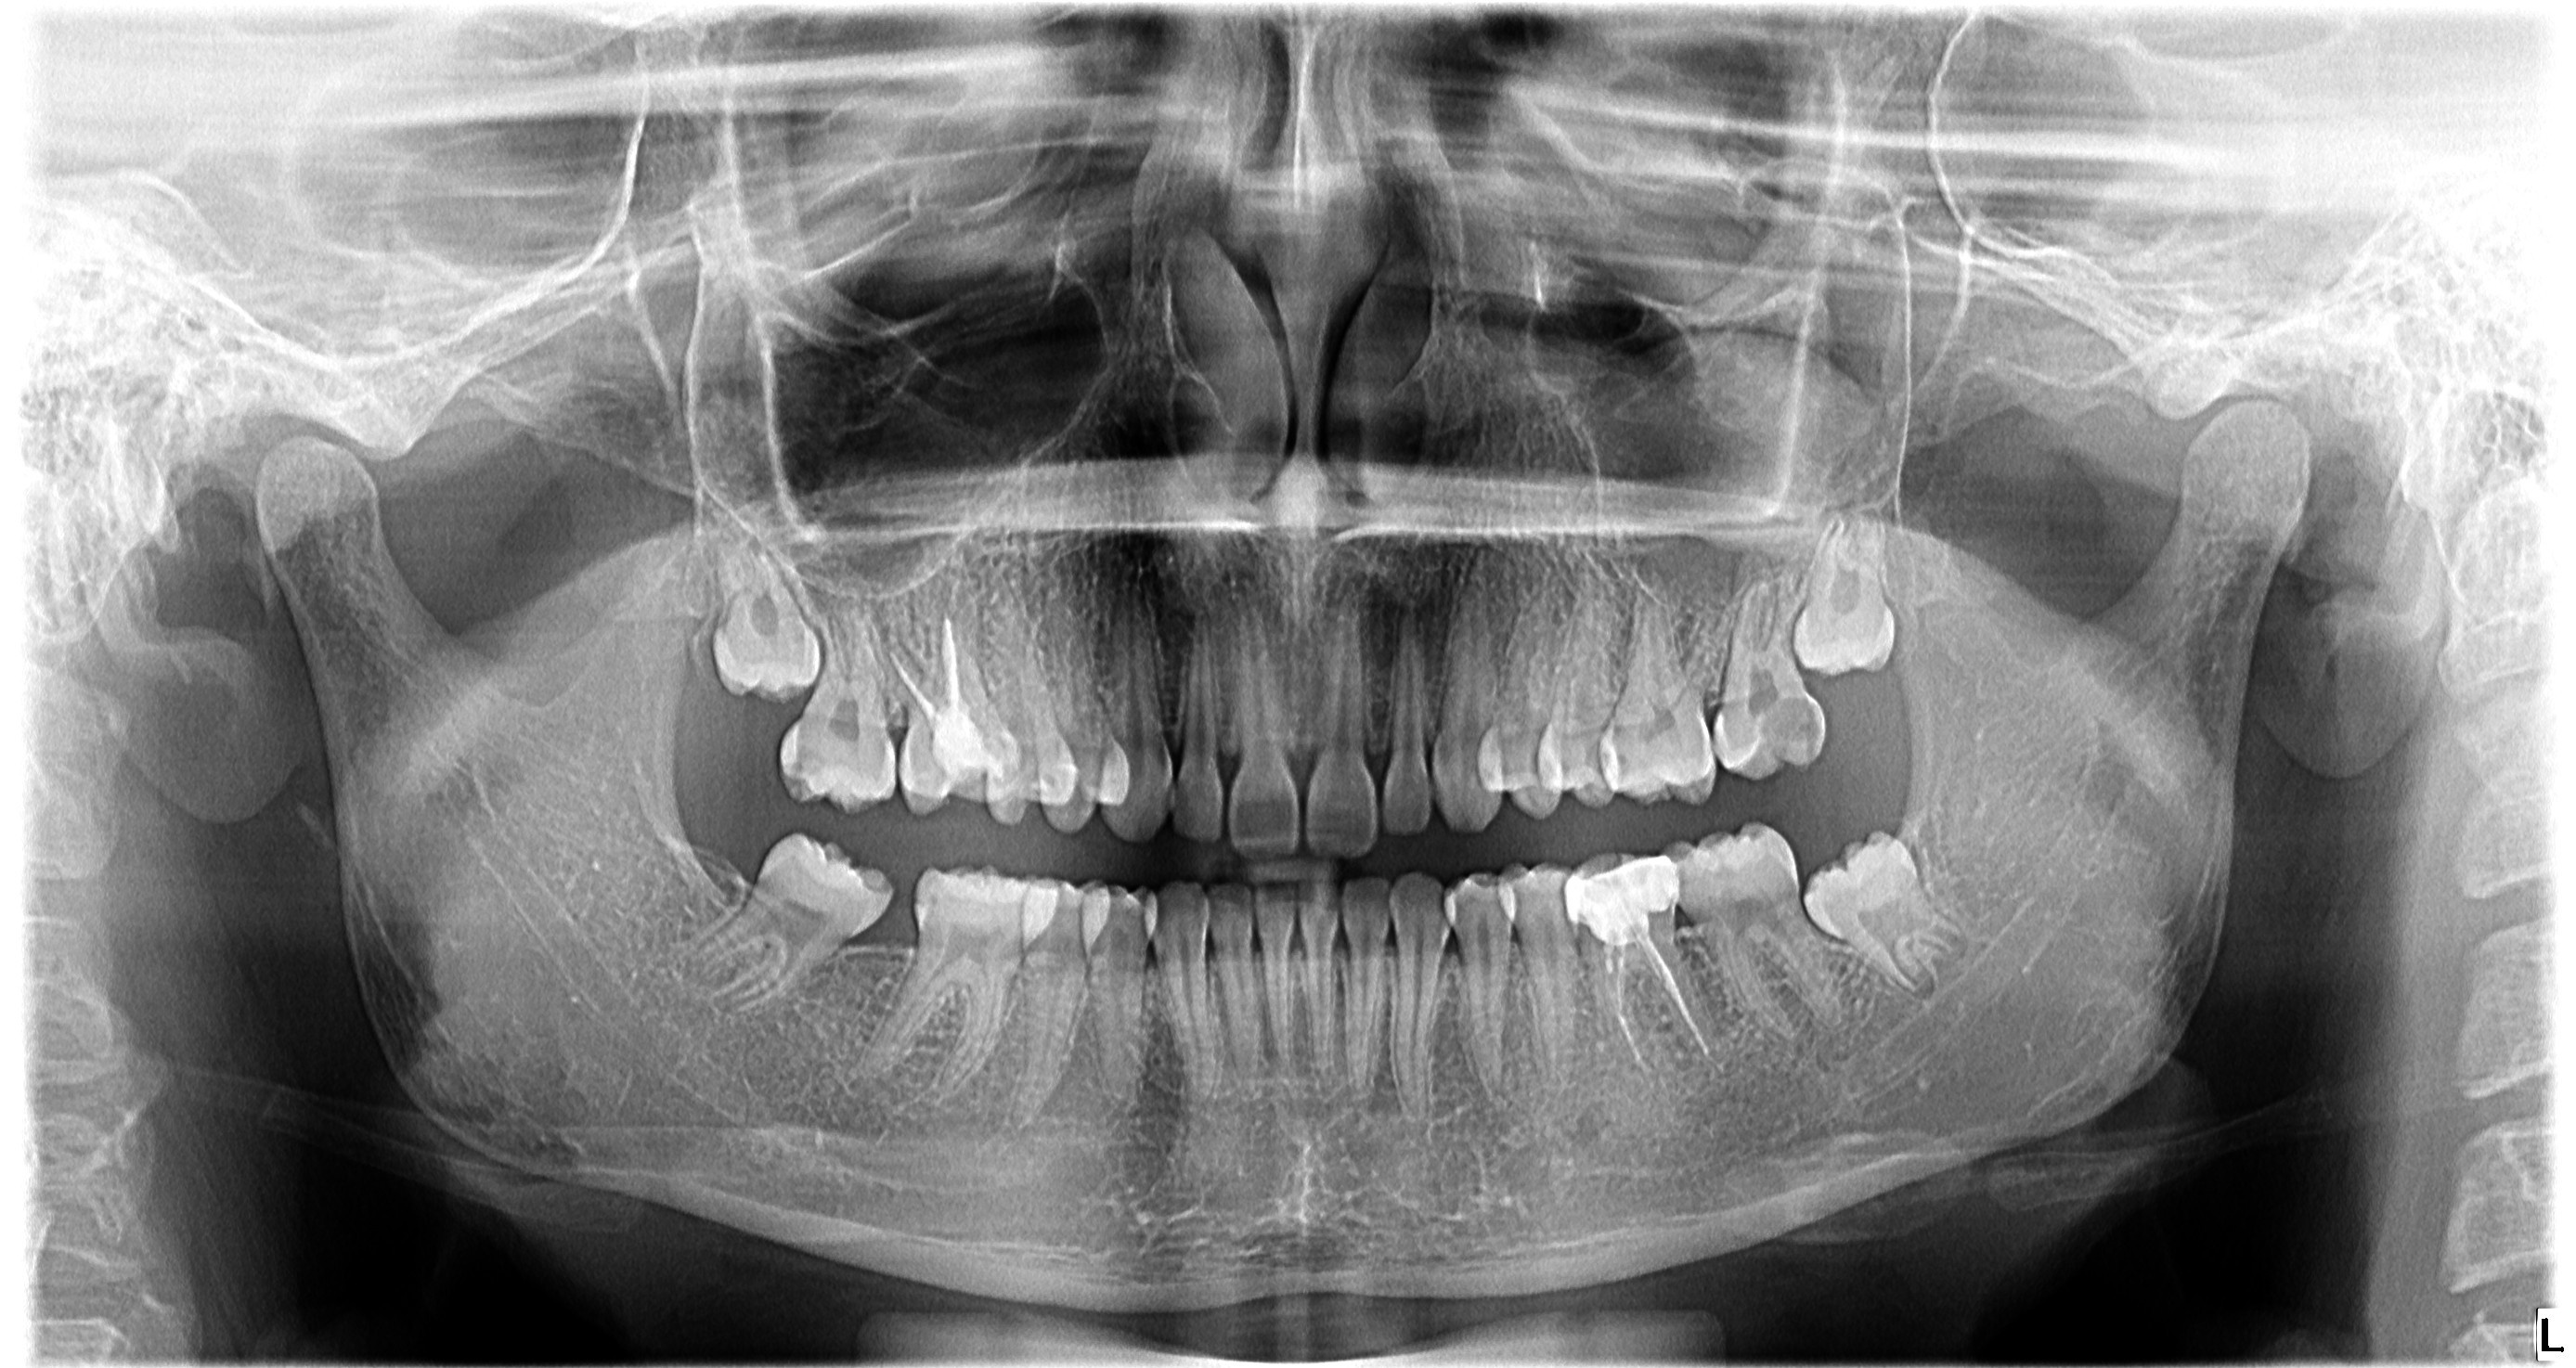BON: (816, 901, 946, 968)
CAR: (1739, 681, 1837, 779), (767, 743, 845, 811), (1566, 729, 1644, 790)
END: (1591, 937, 1719, 1085), (872, 613, 981, 733)
IMT: (1797, 809, 1976, 1010), (681, 526, 835, 710), (1775, 497, 1915, 685)
OBT: (1557, 842, 1693, 957), (911, 709, 1015, 814)
